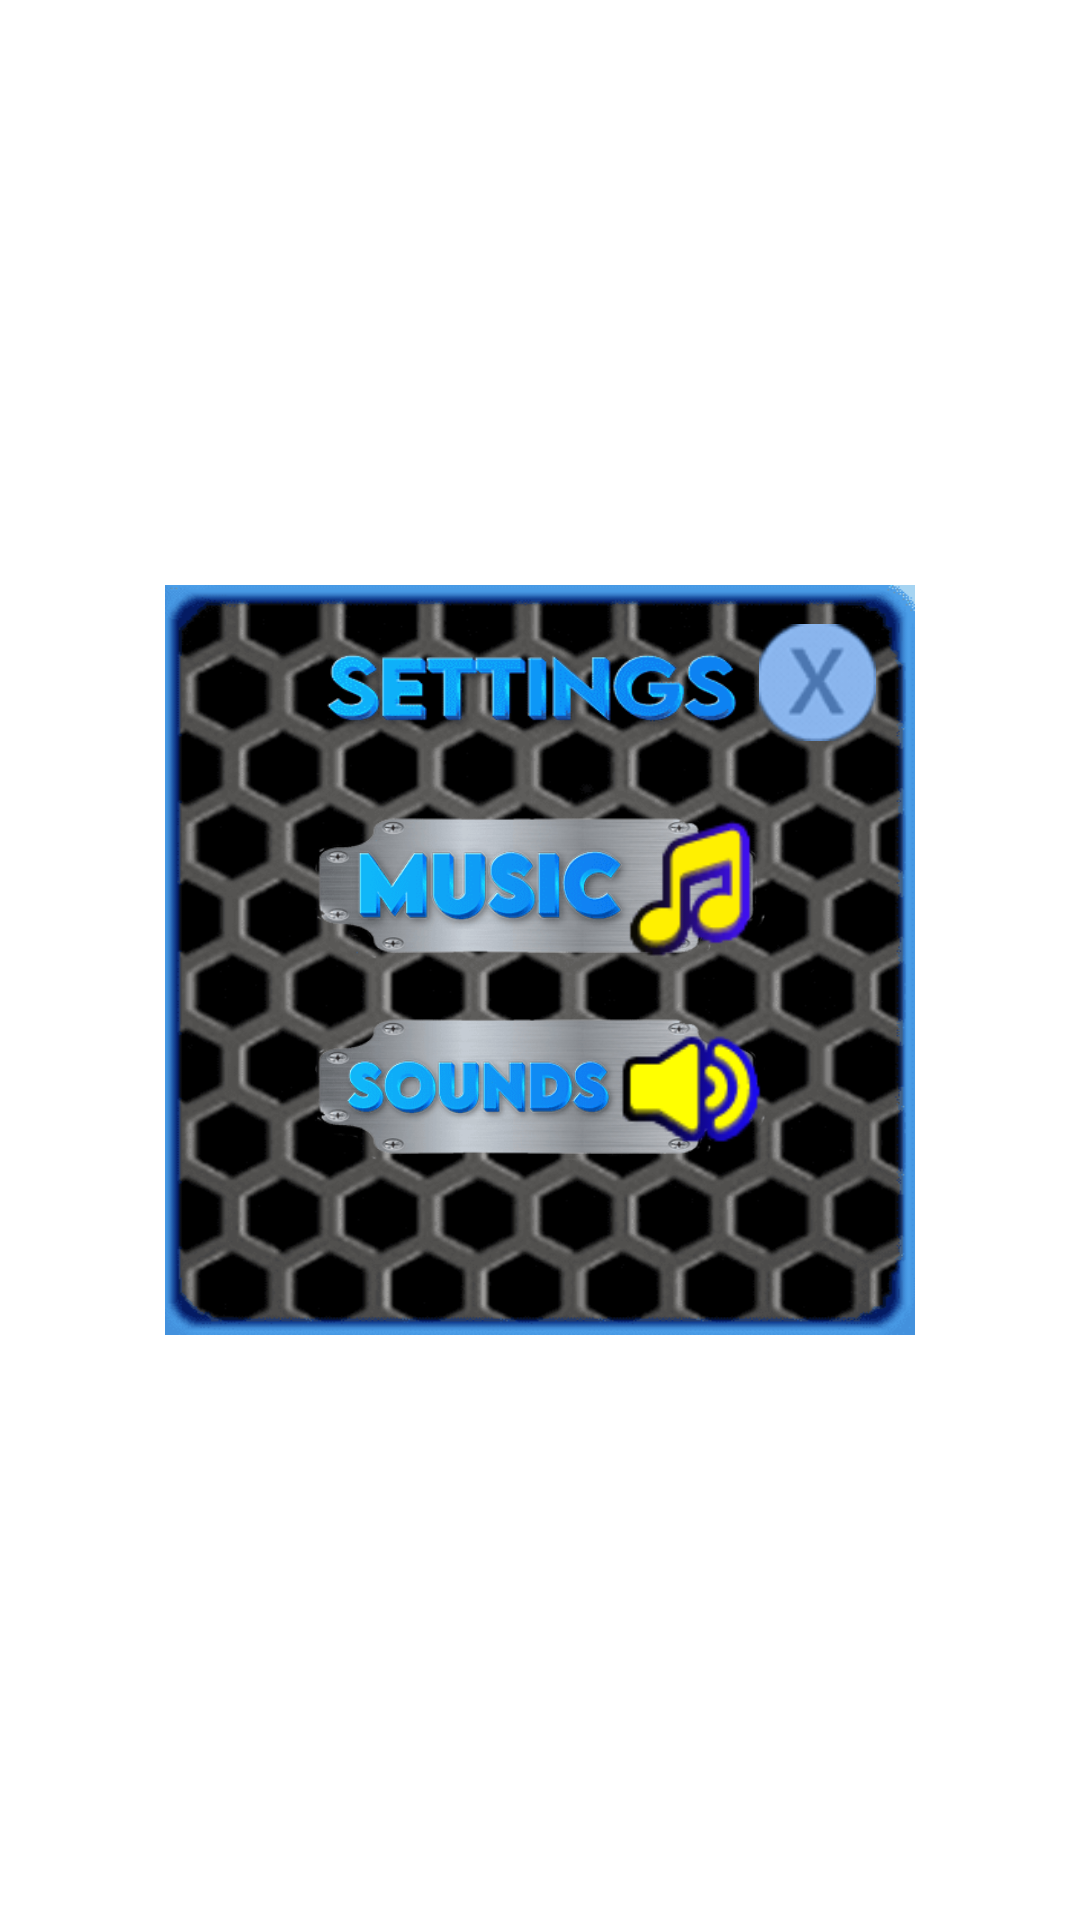

Named icons in this screenshot (1080*1920) and their centers, (x=x, y=y):
close: (x=817, y=682)
